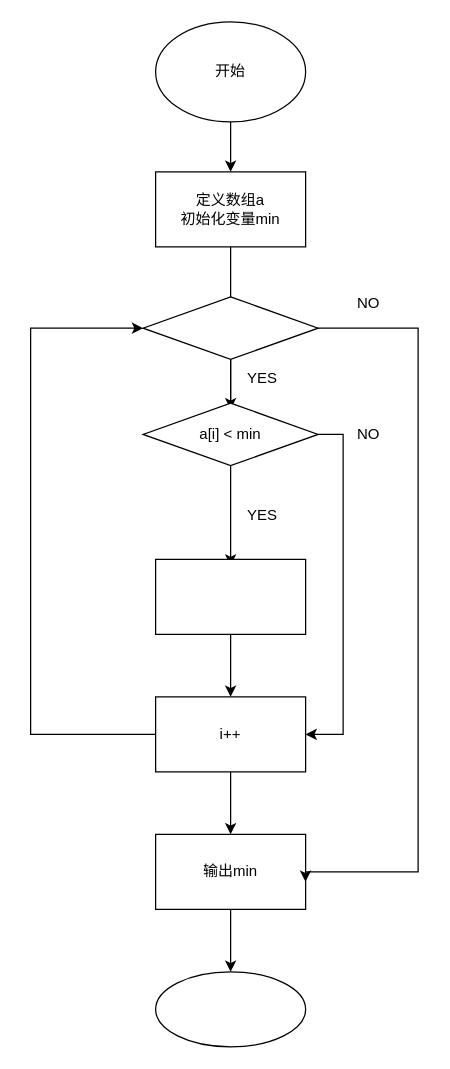
The diagram is 450 pixels wide and 1069 high, and some of its shapes have lost their labels. Each missing label, with the centre of its shape:
"i < 10" belongs at pixel 230 327.
"min = a[i]" belongs at pixel 230 596.
"结束" belongs at pixel 230 1009.
